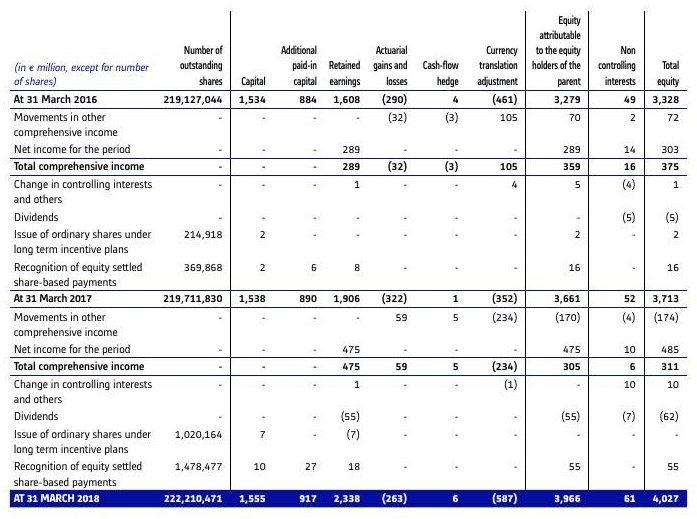table: (0, 0, 697, 519)
